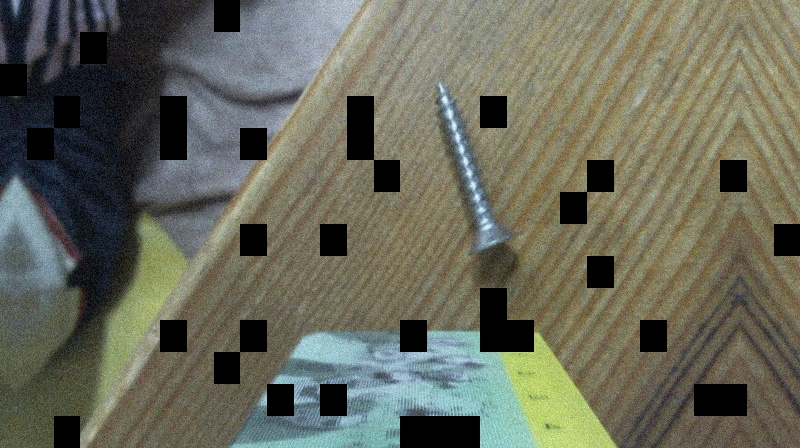S001: (428, 79, 523, 257)
